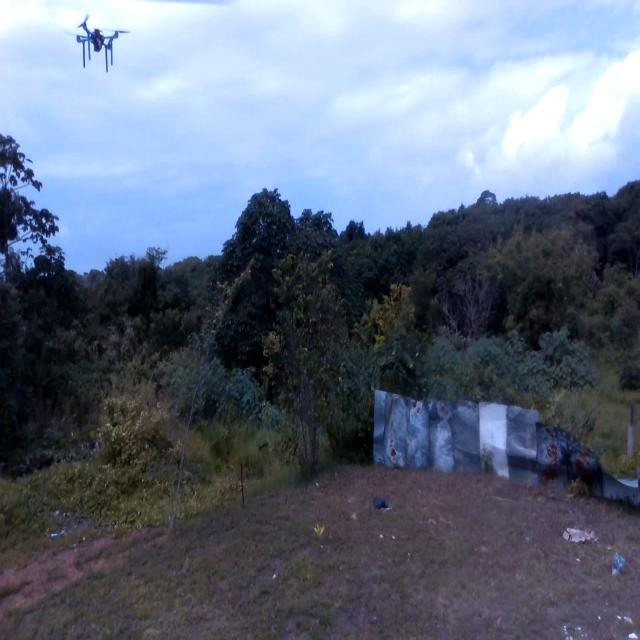-uav-: (65, 9, 137, 83)
